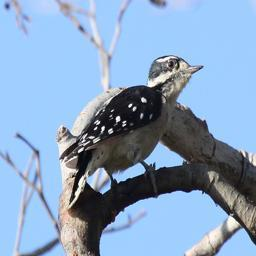Woodpecker: (57, 53, 207, 209)
